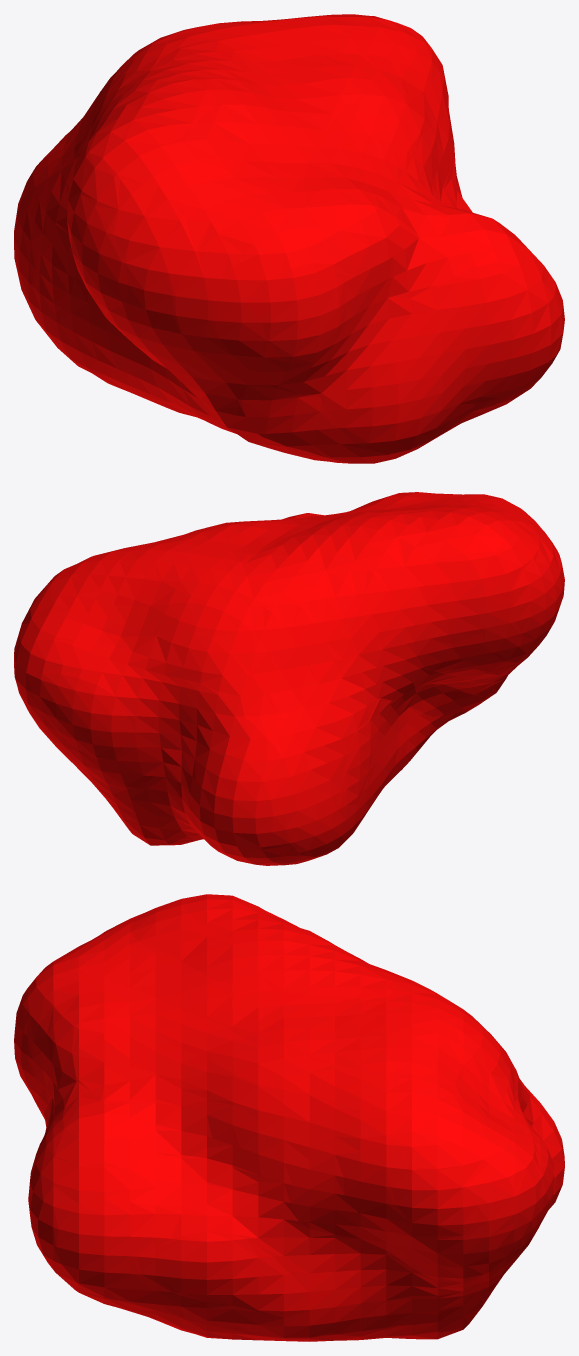
File: yfcL_coarse.dae
The picture shows the model from 3 angles, top to bottom: view 1: azimuth 30°, elevation 25°; view 2: azimuth 150°, elevation 25°; view 3: azimuth 270°, elevation 25°; orthographic projection. The views are drawn at different scales.
Parts seen in each view (by area): view 1: yfcL; view 2: yfcL; view 3: yfcL.
Part boxes in pixels (x1,y1,x2,y2): yfcL: [14, 14, 564, 463]; yfcL: [14, 492, 564, 865]; yfcL: [14, 894, 564, 1341].
Size of the model in its own units: 36.09 by 26 by 39.09.
